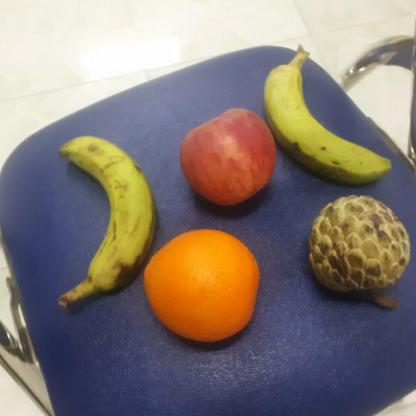annona: (306, 192, 410, 296)
apple: (178, 108, 278, 207)
banana: (261, 62, 394, 186), (56, 132, 158, 291)
orange: (144, 226, 259, 345)
